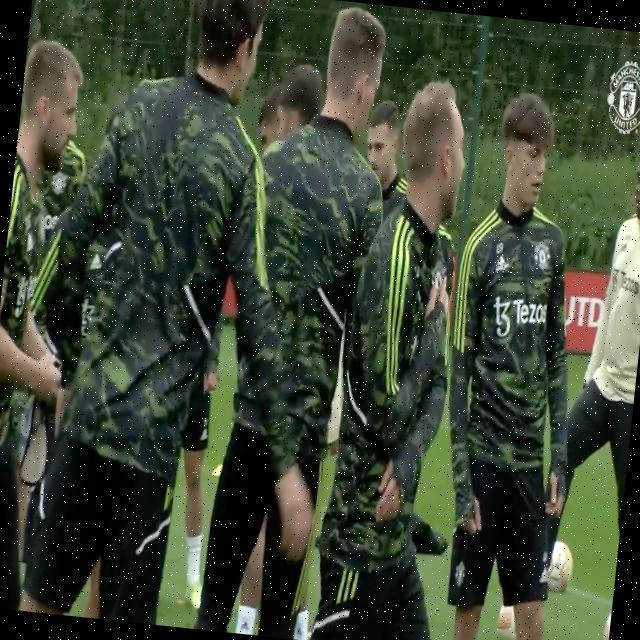Adidas: (496, 254, 510, 275), (539, 563, 550, 586)
